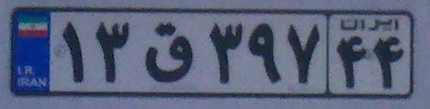character: (144, 18, 200, 88), (91, 14, 136, 86), (284, 17, 325, 91), (206, 14, 246, 87), (245, 19, 283, 90), (56, 15, 91, 86), (371, 33, 408, 92), (334, 34, 370, 92)
